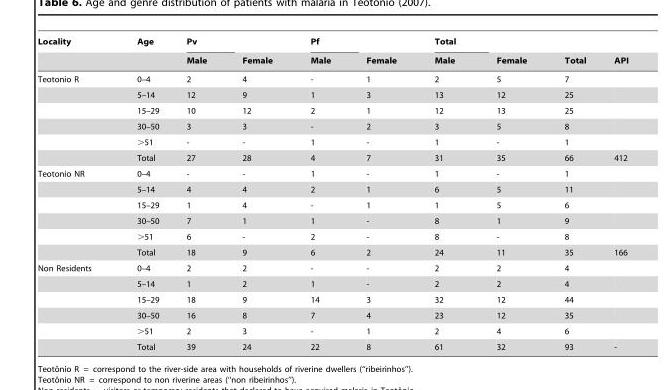table: (37, 36, 627, 351)
table column: (37, 36, 113, 351), (475, 36, 545, 351), (223, 36, 290, 351), (347, 36, 414, 351), (414, 36, 475, 351), (113, 36, 172, 351), (290, 36, 347, 351), (545, 36, 599, 351), (172, 36, 223, 351), (599, 36, 627, 351)
table column header: (37, 36, 627, 69)
table row: (37, 50, 627, 69), (37, 69, 627, 86), (37, 86, 627, 102), (37, 102, 627, 118), (37, 118, 627, 134), (37, 149, 627, 165), (37, 165, 627, 181), (37, 181, 627, 197), (37, 212, 627, 228), (37, 228, 627, 244), (37, 244, 627, 260), (37, 275, 627, 291), (37, 291, 627, 307), (37, 322, 627, 338), (37, 134, 627, 149), (37, 197, 627, 212), (37, 260, 627, 275), (37, 307, 627, 322), (37, 36, 627, 50), (37, 338, 627, 351)
table spanning cell: (37, 69, 113, 165), (37, 165, 113, 260), (37, 260, 113, 351), (37, 36, 113, 69), (475, 36, 545, 69), (223, 36, 290, 69), (347, 36, 414, 69), (414, 36, 475, 69), (113, 36, 172, 69), (290, 36, 347, 69), (545, 36, 599, 69), (172, 36, 223, 69), (599, 36, 627, 69)
